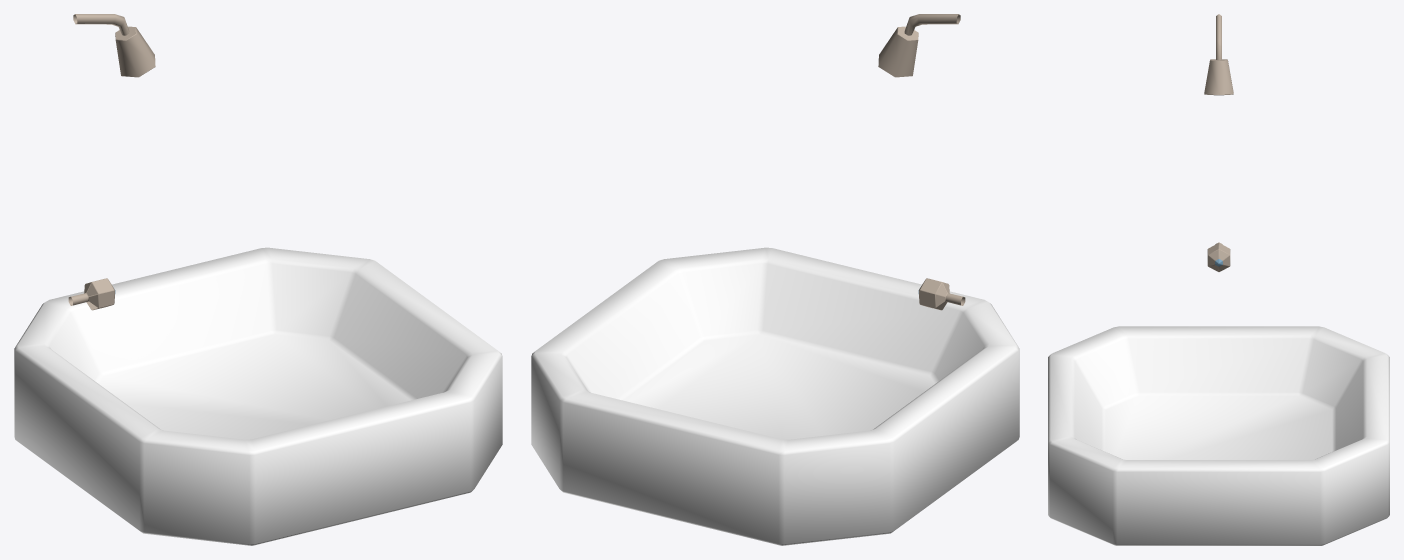
Rendered from shower.fbx.
3 views of the same model, side by side, from view 1: azimuth 30°, elevation 25°; view 2: azimuth 150°, elevation 25°; view 3: azimuth 270°, elevation 25° (orthographic). The views are drawn at different scales.
Visible parts, largest first — view 1: shower; view 2: shower; view 3: shower.
Part boxes in pixels (x1,y1,x2,y2): shower: [14, 14, 502, 545]; shower: [531, 14, 1019, 545]; shower: [1048, 14, 1389, 545].
Size of the model in its own units: 204 by 250 by 200.
1 material, 1 textured.
